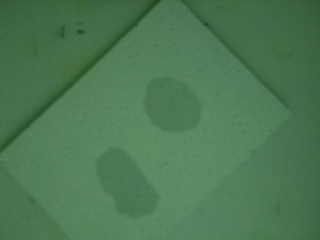Water_detected: (101, 153, 152, 213), (152, 76, 199, 136)
